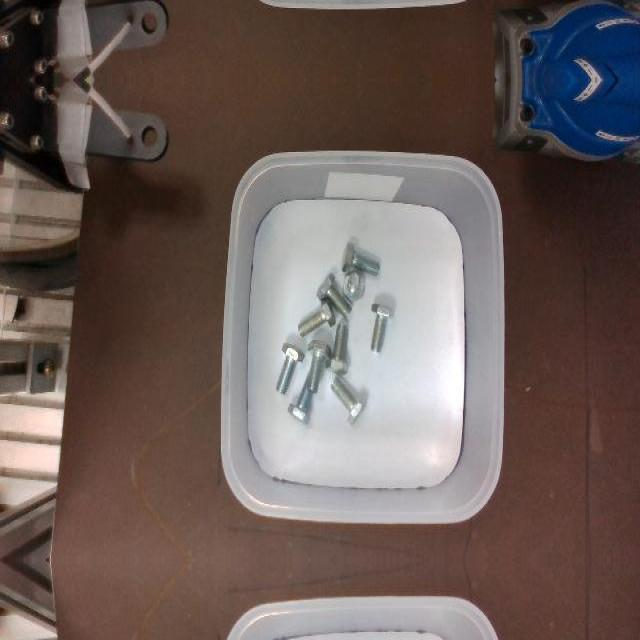screw: (330, 377, 367, 423), (316, 273, 352, 319), (297, 295, 335, 337), (276, 342, 305, 394), (341, 240, 380, 274), (325, 323, 349, 377), (307, 339, 331, 393), (370, 301, 394, 351), (343, 270, 366, 304)
